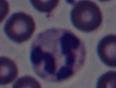N: (29, 27, 86, 84)
